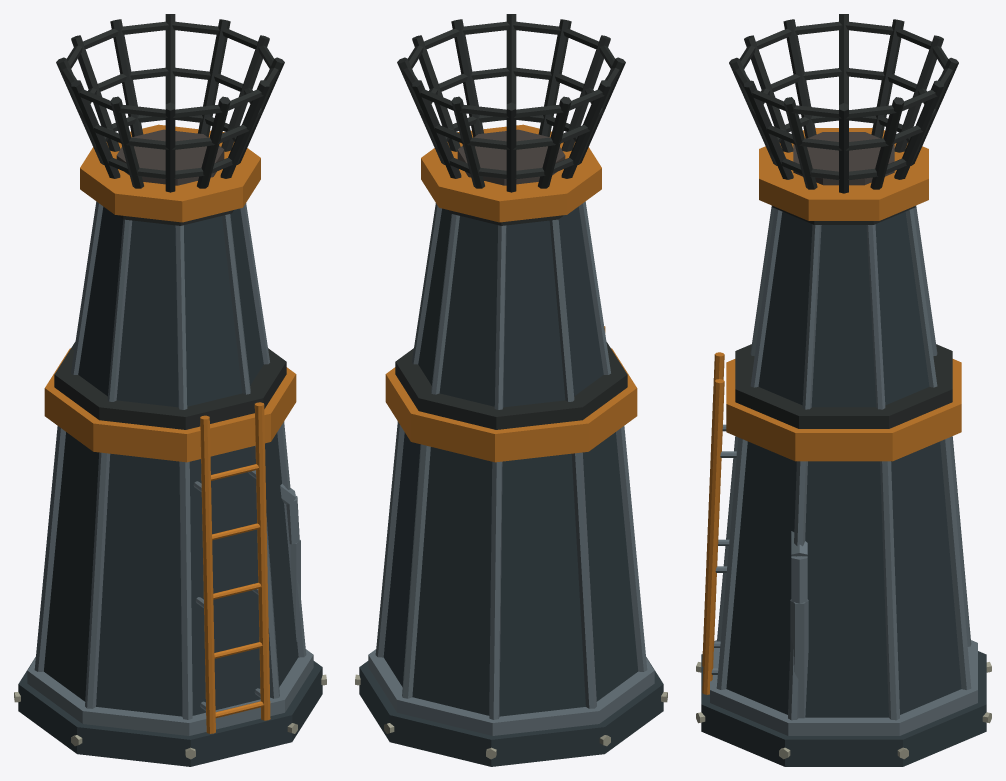
Rendered from wsc-kit-007-storm-beacon-far.glb.
3 views of the same model, side by side, from view 1: azimuth 30°, elevation 25°; view 2: azimuth 150°, elevation 25°; view 3: azimuth 270°, elevation 25° (orthographic).
Parts seen in each view (by area): view 1: Beacon_Body_and_Socket, Beacon_Cage_and_Hardware; view 2: Beacon_Body_and_Socket, Beacon_Cage_and_Hardware; view 3: Beacon_Body_and_Socket, Beacon_Cage_and_Hardware.
Part boxes in pixels (left/top/right/bottom): Beacon_Body_and_Socket: left=18, top=124, right=322, bottom=766; Beacon_Cage_and_Hardware: left=14, top=14, right=326, bottom=759; Beacon_Body_and_Socket: left=359, top=124, right=663, bottom=766; Beacon_Cage_and_Hardware: left=355, top=14, right=667, bottom=759; Beacon_Body_and_Socket: left=701, top=128, right=986, bottom=766; Beacon_Cage_and_Hardware: left=696, top=14, right=991, bottom=759.
Size of the model in its own units: 2.26 by 5.47 by 2.26.
